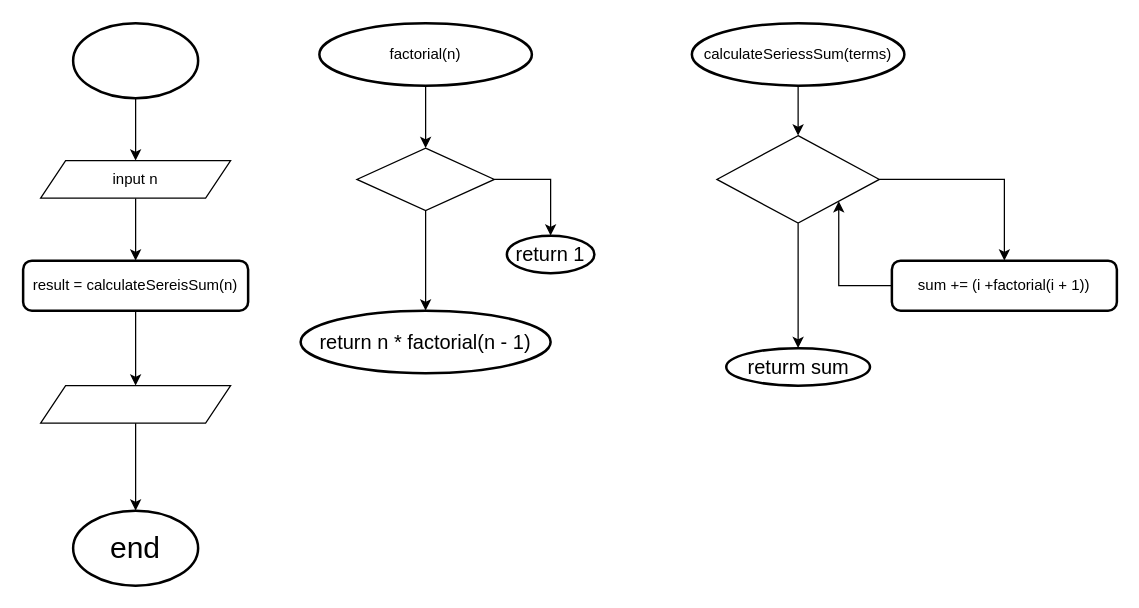
The diagram is 1139 pixels wide and 608 high, and some of its shapes have lost their labels. The shapes that lost their labels are listed below. From the top down, each one's box as (x1, y1, x2, y2) in pixels, then its label:
(71, 21, 199, 99): start
(356, 147, 494, 211): if( n <= 1)
(716, 134, 879, 223): for ( i < terms, i++)
(39, 384, 231, 423): output "Sum = ", result
